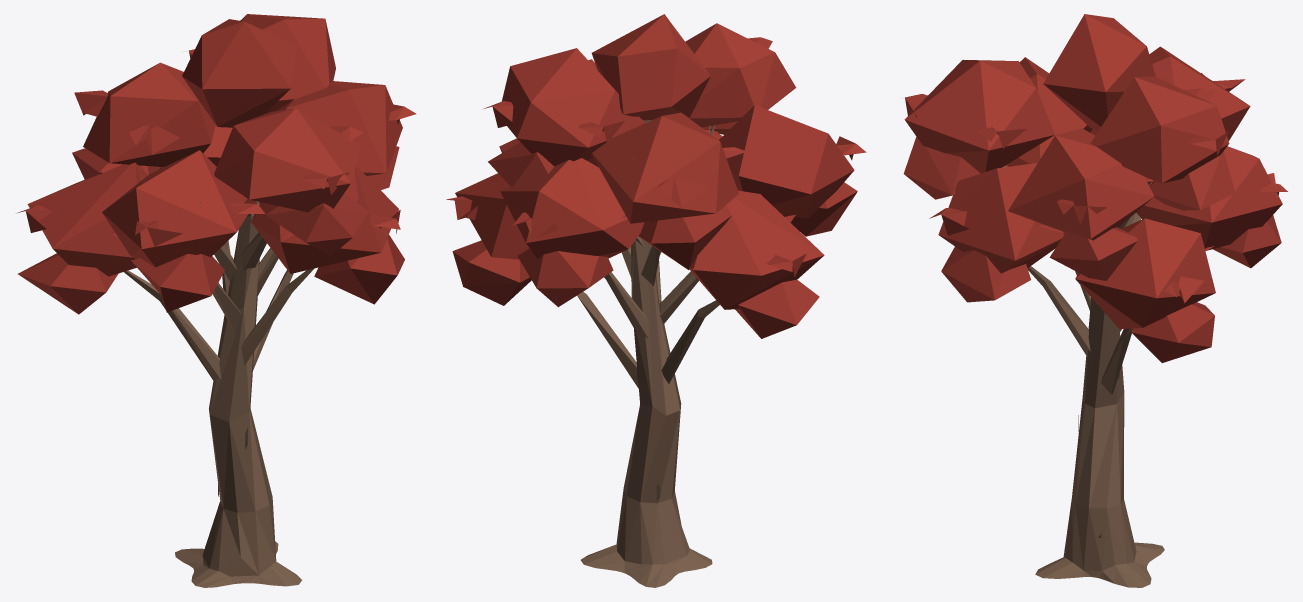
File: maple_autumn.glb
The picture shows the model from 3 angles, left to right: view 1: azimuth 30°, elevation 25°; view 2: azimuth 150°, elevation 25°; view 3: azimuth 270°, elevation 25°; orthographic projection. The views are drawn at different scales.
Visible parts, largest first — view 1: leaves, branches; view 2: leaves, branches; view 3: leaves, branches.
Boxes of the visible parts, x1,y1,x2,y2 form: leaves: (16,14,416,314); branches: (124,140,332,587); leaves: (446,14,866,338); branches: (577,120,728,587); leaves: (903,14,1287,362); branches: (1002,166,1164,587).
Size of the model in its own units: 3.2 by 4.69 by 3.06.
